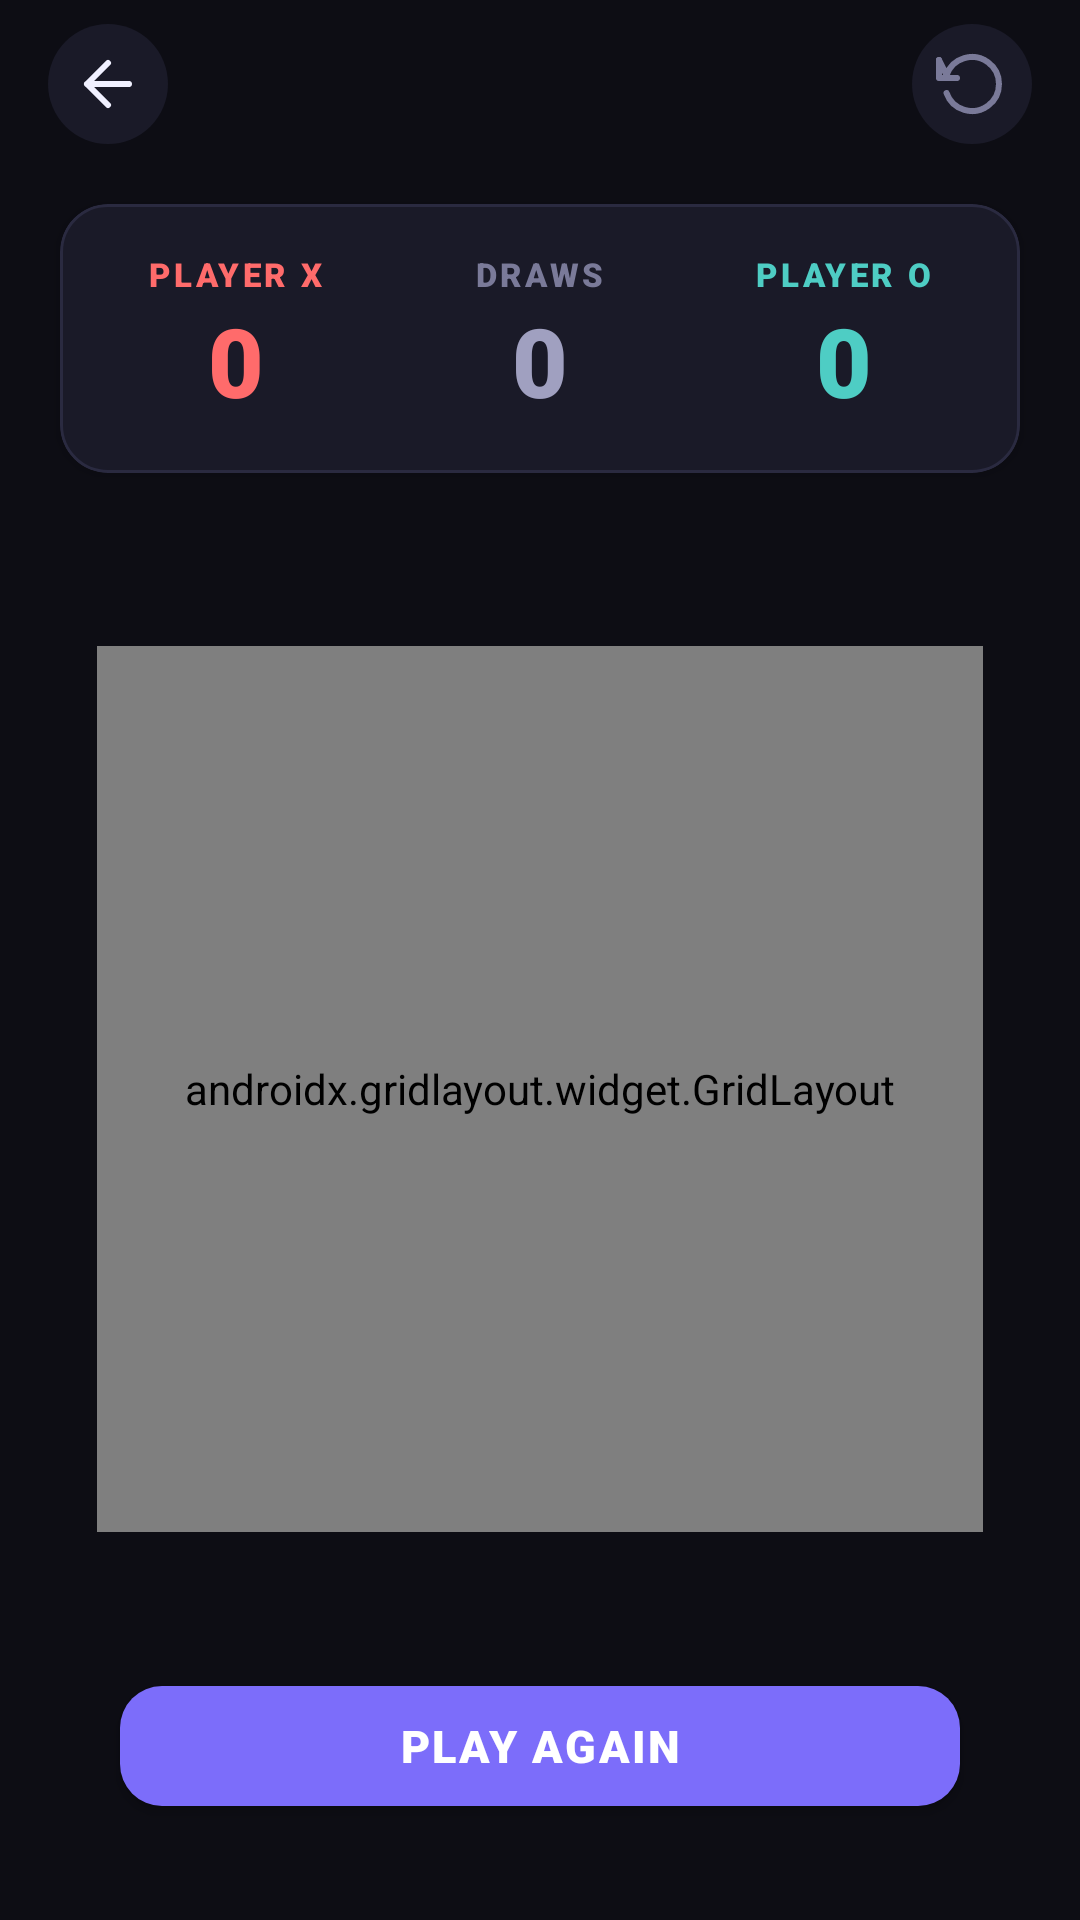

Named icons in this screenshot (1080px×1920px) and their bounding boxes, (x1, y1, x2, y2):
Back: (48, 24, 168, 144)
Reset Scores: (912, 24, 1032, 144)
